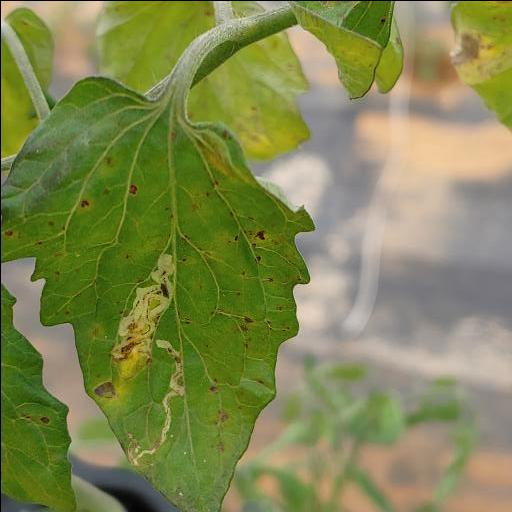disease_tomato: (3, 76, 317, 510)
